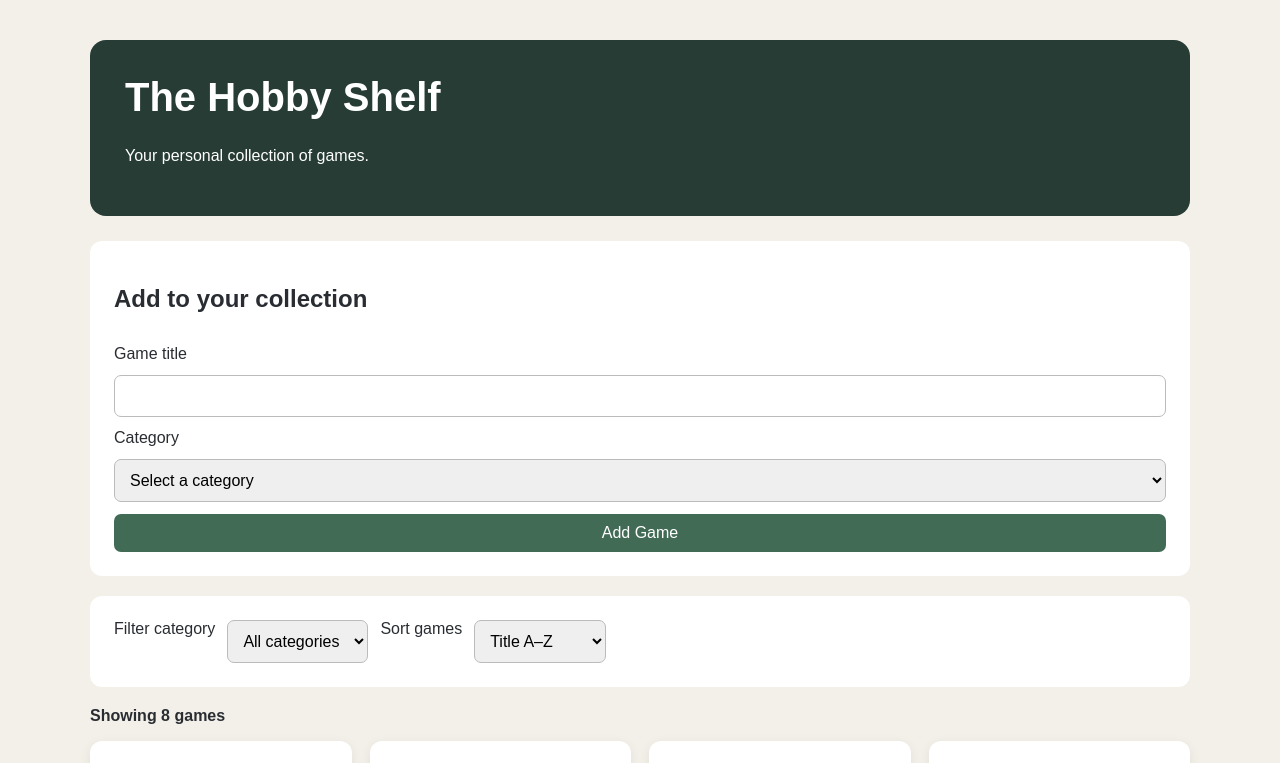
Scenario: adds a new game to the collection
Type "Space Adventure" into the field labelled "Game title" at (640, 396), box [114, 375, 1166, 417]
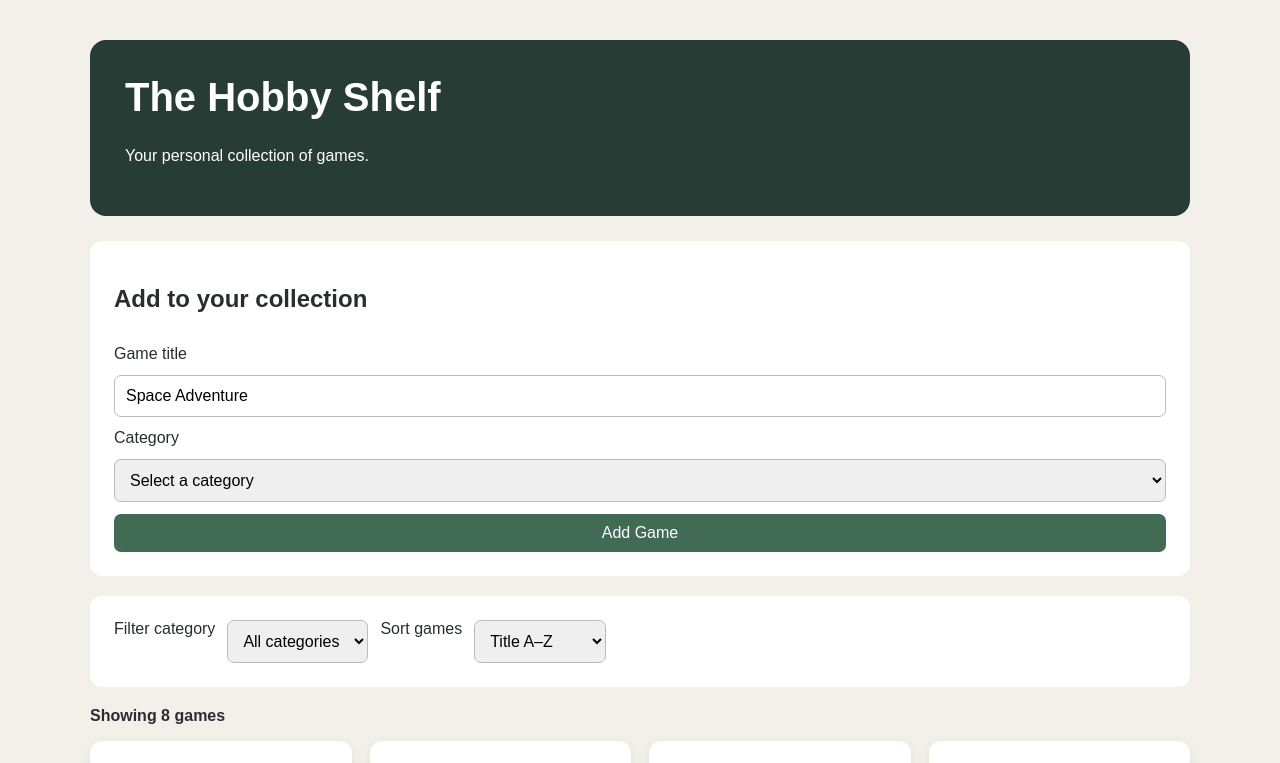
Select "Puzzle" in the dropdown labelled "Category" at (640, 480), box [114, 459, 1166, 502]
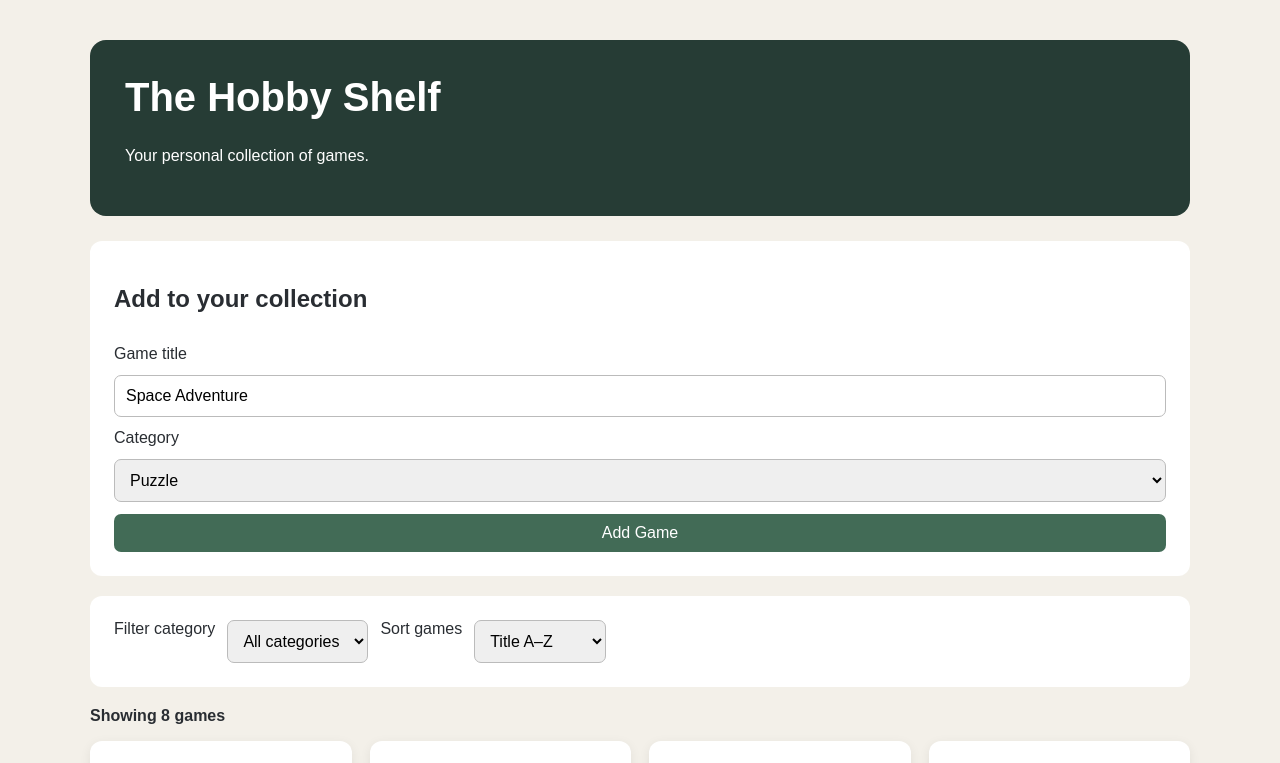
Click the button "Add Game" at (640, 533), box [114, 514, 1166, 552]
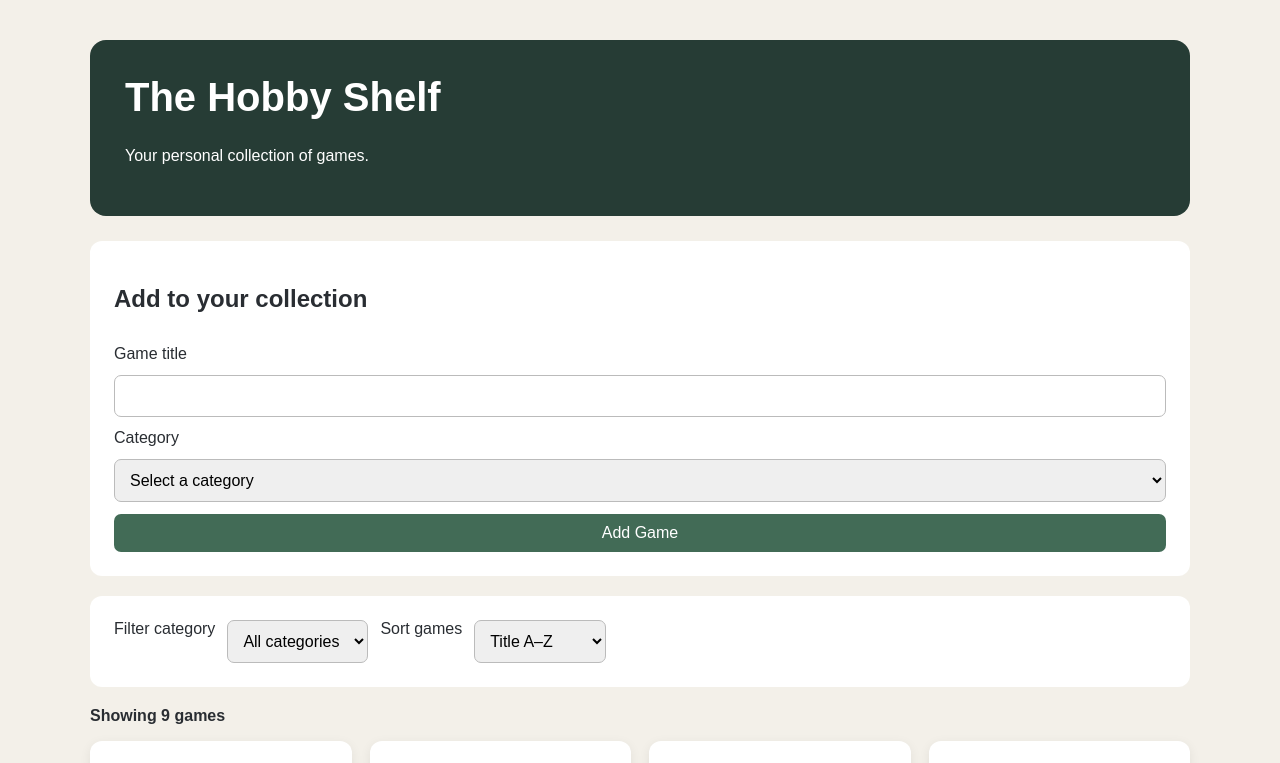
Expected: the text "Showing 9 games" is shown, [90, 707, 225, 724]
